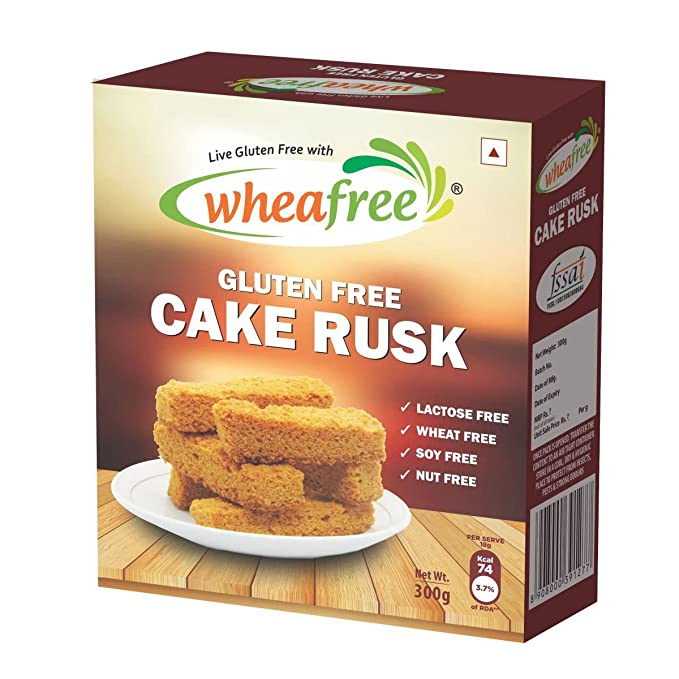non_veg: (477, 136, 514, 185)
